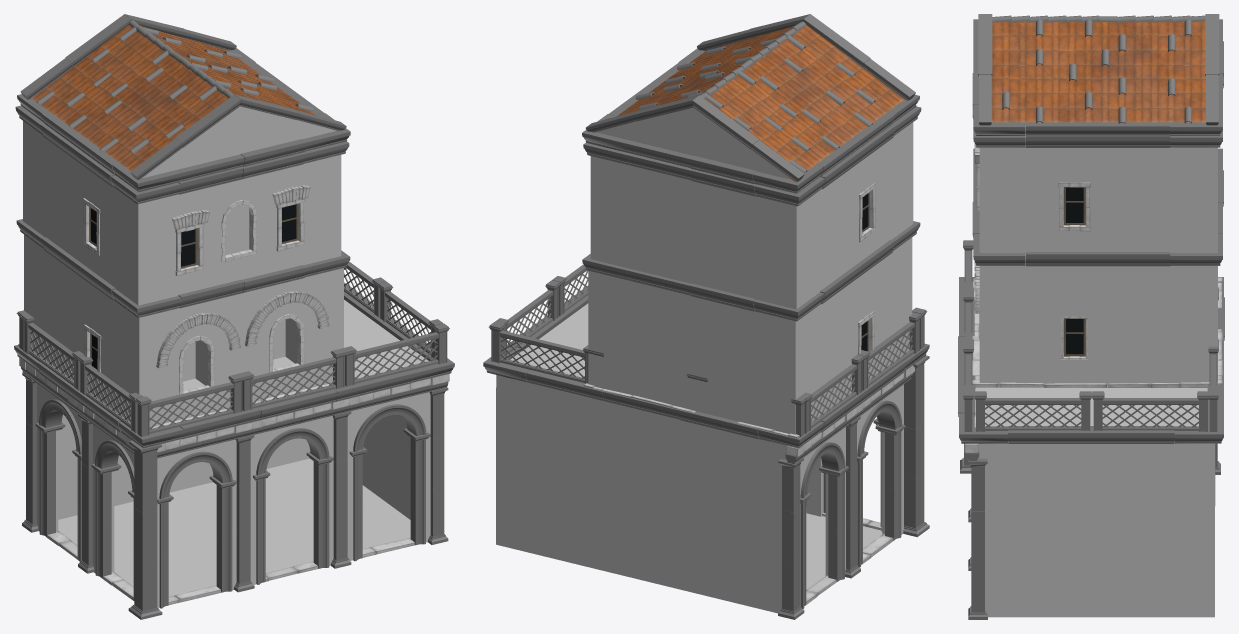
File: SM_insulae_building_08.fbx
3 views of the same model, side by side, from view 1: azimuth 30°, elevation 25°; view 2: azimuth 150°, elevation 25°; view 3: azimuth 270°, elevation 25° (orthographic). The views are drawn at different scales.
Visible parts, largest first — view 1: Object32712; view 2: Object32712; view 3: Object32712.
Boxes of the visible parts, <box> form: Object32712: <box>14,14,454,619</box>; Object32712: <box>483,14,929,619</box>; Object32712: <box>958,14,1224,619</box>.
Size of the model in its own units: 450 by 670 by 321.
